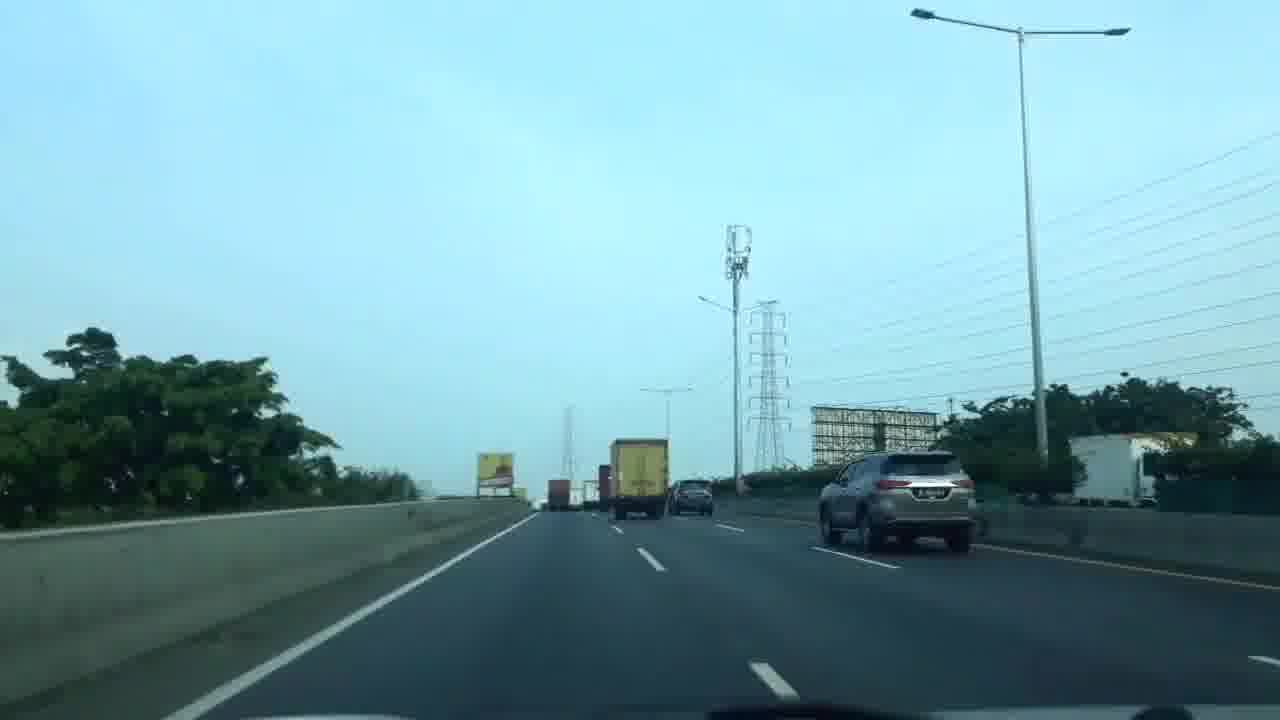plate_positive: (918, 488, 945, 499)
